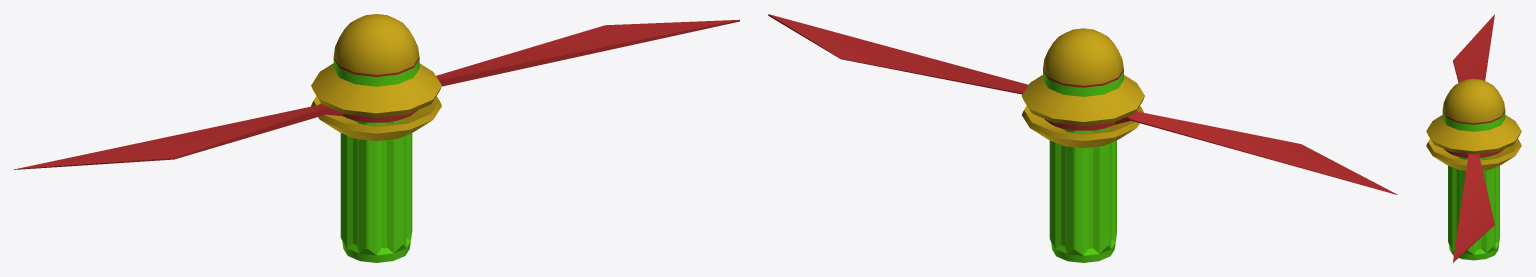
File: Blades of death.FBX
3 renders of one model, left to right at view 1: azimuth 30°, elevation 25°; view 2: azimuth 150°, elevation 25°; view 3: azimuth 270°, elevation 25°, orthographic. The views are drawn at different scales.
Visible parts, largest first — view 1: Cylinder027, Object002, Capsule001; view 2: Cylinder027, Object002, Capsule001; view 3: Cylinder027, Capsule001, Object002.
Boxes of the visible parts, <box> form: Cylinder027: <box>14,19,739,169</box>; Object002: <box>340,117,412,262</box>; Capsule001: <box>333,14,419,86</box>; Cylinder027: <box>768,14,1397,194</box>; Object002: <box>1049,125,1116,262</box>; Capsule001: <box>1043,28,1123,96</box>; Cylinder027: <box>1426,14,1521,262</box>; Capsule001: <box>1442,79,1505,131</box>; Object002: <box>1448,154,1499,260</box>.
Size of the model in its own units: 5.04 by 1.6 by 0.8205.
